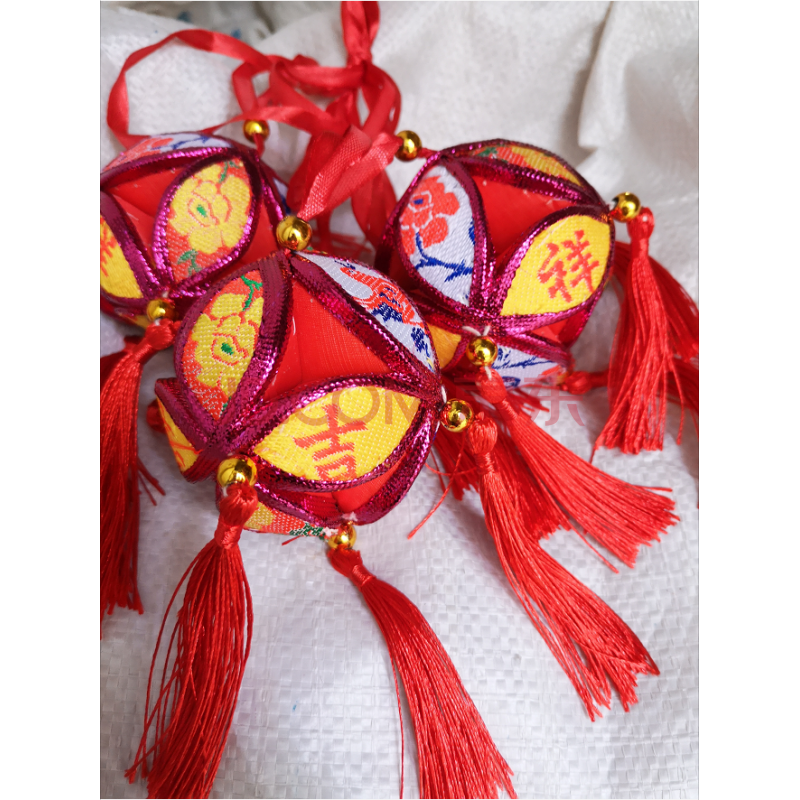xiuqiu: (153, 253, 444, 540), (382, 134, 667, 344), (102, 117, 297, 340)
